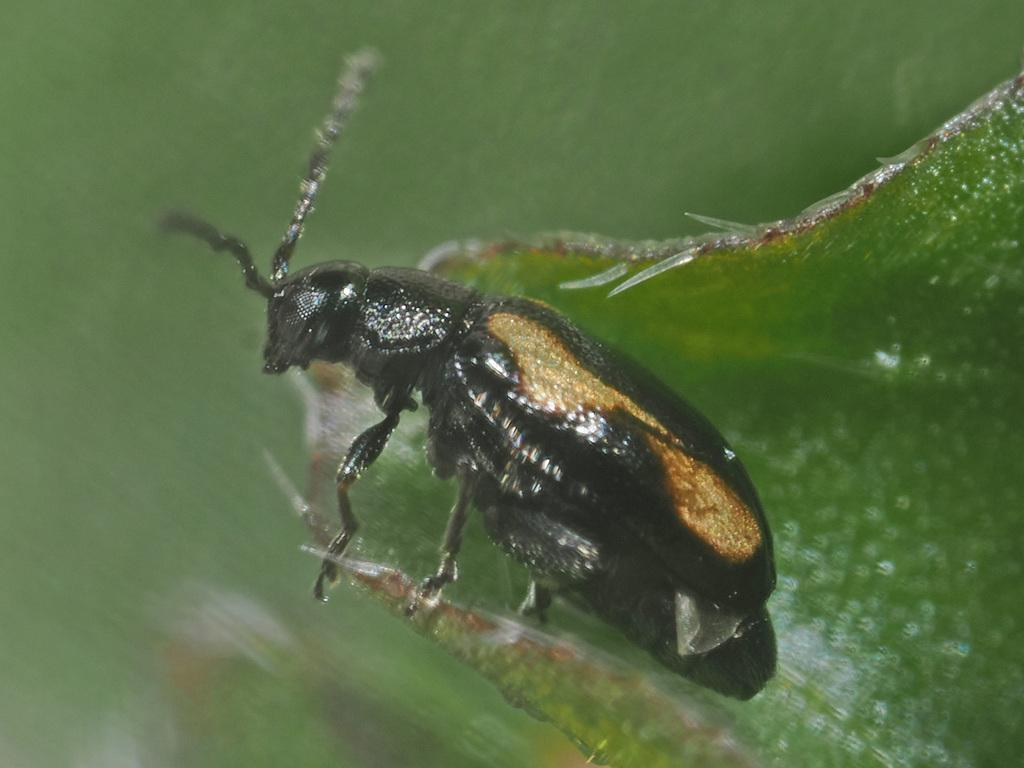flea_beetle: (84, 9, 849, 711)
